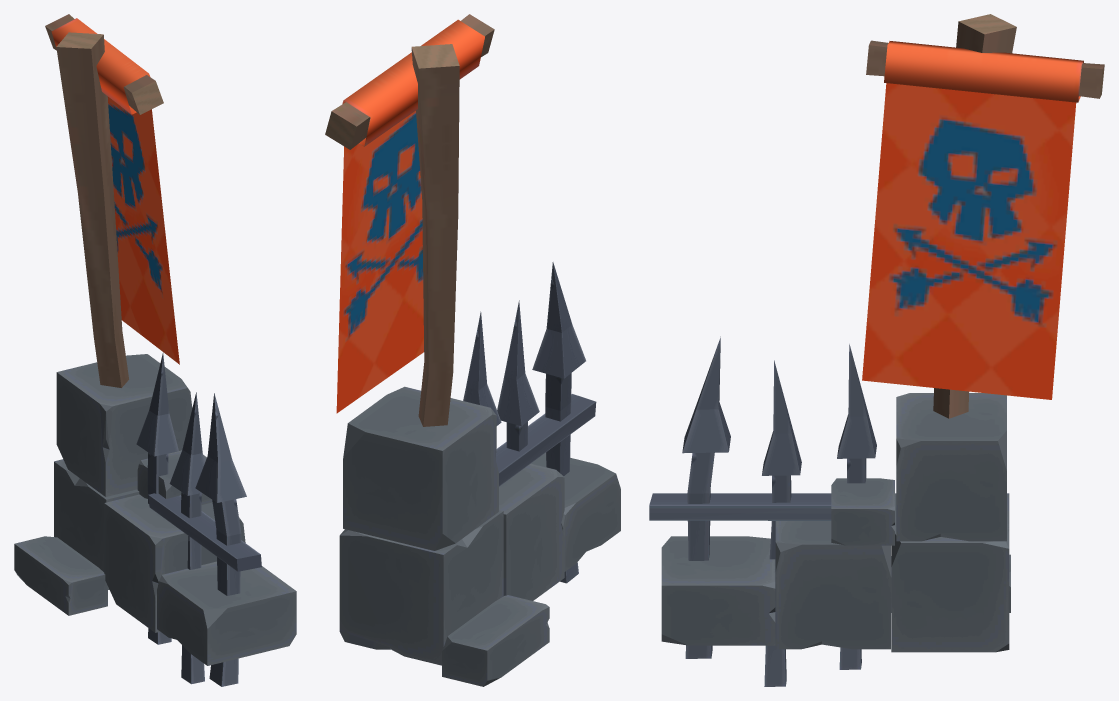
Rendered from Wall1B-008_40_07_0194.fbx.
3 renders of one model, left to right at view 1: azimuth 30°, elevation 25°; view 2: azimuth 150°, elevation 25°; view 3: azimuth 270°, elevation 25°, orthographic. The views are drawn at different scales.
Parts seen in each view (by area): view 1: 1B_Wall1, Wood1.002 (1), Flag2 (1), 2B_Fence1_001 (1), 2B_Fence1_002 (1), 2B_Fence1_002 (2), 2B_Fence1_003 (1), ClothTop3 (1), WoodTop (1); view 2: 1B_Wall1, Flag2 (1), Wood1.002 (1), ClothTop3 (1), 2B_Fence1_001 (1), 2B_Fence1_002 (1), 2B_Fence1_003 (1), WoodTop (1), 2B_Fence1_002 (2); view 3: 1B_Wall1, Flag2 (1), ClothTop3 (1), 2B_Fence1_001 (1), 2B_Fence1_003 (1), 2B_Fence1_002 (1), 2B_Fence1_002 (2), Wood1.002 (1), WoodTop (1).
Boxes of the visible parts, x1,y1,x2,y2 form: 1B_Wall1: [14, 354, 296, 665]; Wood1.002 (1): [56, 32, 128, 387]; Flag2 (1): [107, 96, 179, 364]; 2B_Fence1_001 (1): [195, 393, 246, 686]; 2B_Fence1_002 (1): [169, 392, 204, 684]; 2B_Fence1_002 (2): [136, 352, 178, 644]; 2B_Fence1_003 (1): [148, 493, 261, 571]; ClothTop3 (1): [51, 18, 150, 114]; WoodTop (1): [45, 14, 163, 114]; 1B_Wall1: [339, 386, 620, 686]; Flag2 (1): [336, 111, 423, 413]; Wood1.002 (1): [411, 44, 459, 426]; ClothTop3 (1): [342, 19, 484, 146]; 2B_Fence1_001 (1): [532, 262, 585, 583]; 2B_Fence1_002 (1): [497, 300, 539, 451]; 2B_Fence1_003 (1): [496, 394, 596, 486]; WoodTop (1): [325, 14, 494, 149]; 2B_Fence1_002 (2): [463, 311, 501, 425]; 1B_Wall1: [661, 393, 1010, 652]; Flag2 (1): [862, 83, 1076, 399]; ClothTop3 (1): [884, 41, 1083, 102]; 2B_Fence1_001 (1): [682, 336, 730, 658]; 2B_Fence1_003 (1): [649, 493, 831, 520]; 2B_Fence1_002 (1): [762, 360, 801, 686]; 2B_Fence1_002 (2): [837, 344, 876, 669]; Wood1.002 (1): [933, 14, 1016, 418]; WoodTop (1): [866, 40, 1104, 98].
Size of the model in its own units: 1.44 by 6.12 by 3.88.
